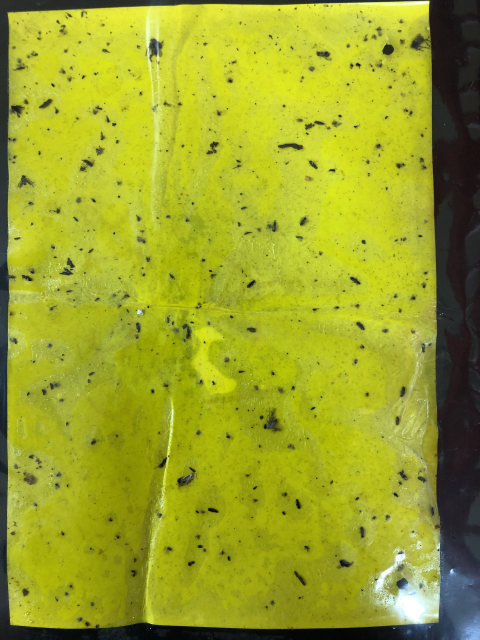DBM: (174, 472, 197, 488)
